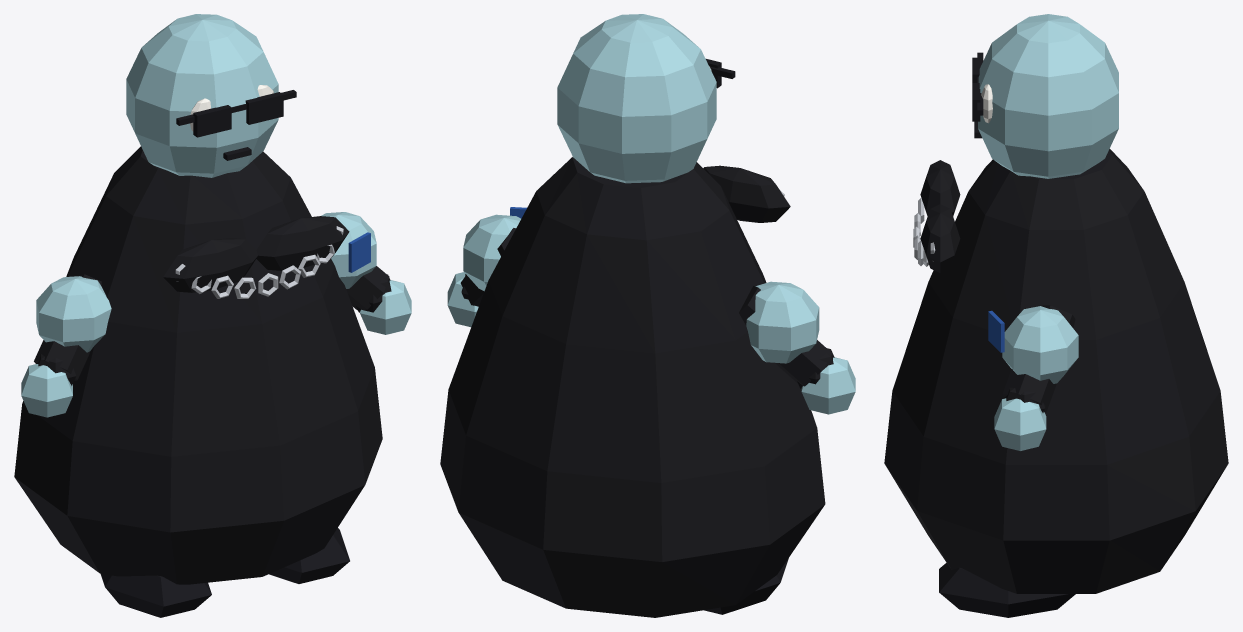
The model's file is npc_patovica_moto.glb.
3 renders of one model, left to right at view 1: azimuth 30°, elevation 25°; view 2: azimuth 150°, elevation 25°; view 3: azimuth 270°, elevation 25°, orthographic. The views are drawn at different scales.
Parts seen in each view (by area): view 1: body_tank_black, body_shorts_black, head_skin_celeste, arms_skin_celeste, legs_black, arms_tank_black, face_black, body_biker_silver, body_tattoo_blue; view 2: body_tank_black, body_shorts_black, head_skin_celeste, arms_skin_celeste, arms_tank_black, legs_black; view 3: body_tank_black, body_shorts_black, head_skin_celeste, arms_skin_celeste, legs_black, arms_tank_black, face_black, body_biker_silver, body_tattoo_blue.
Boxes of the visible parts, x1,y1,x2,y2 form: body_tank_black: (22,146,374,456); body_shorts_black: (14,368,382,584); head_skin_celeste: (126,14,278,177); arms_skin_celeste: (21,212,411,417); legs_black: (100,528,349,617); arms_tank_black: (34,266,391,385); face_black: (176,90,296,160); body_biker_silver: (175,226,343,298); body_tattoo_blue: (348,232,370,272); body_tank_black: (448,157,817,482); body_shorts_black: (440,390,825,617); head_skin_celeste: (557,14,716,183); arms_skin_celeste: (447,214,855,414); arms_tank_black: (460,228,834,388); legs_black: (704,558,788,614); body_tank_black: (892,149,1220,464); body_shorts_black: (884,391,1228,593); head_skin_celeste: (978,14,1118,178); arms_skin_celeste: (994,306,1078,450); legs_black: (939,563,1075,617); arms_tank_black: (1002,305,1075,412); face_black: (972,52,983,138); body_biker_silver: (913,198,935,266); body_tattoo_blue: (988,310,1004,352).
Size of the model in its own units: 1.13 by 1.53 by 0.86.
